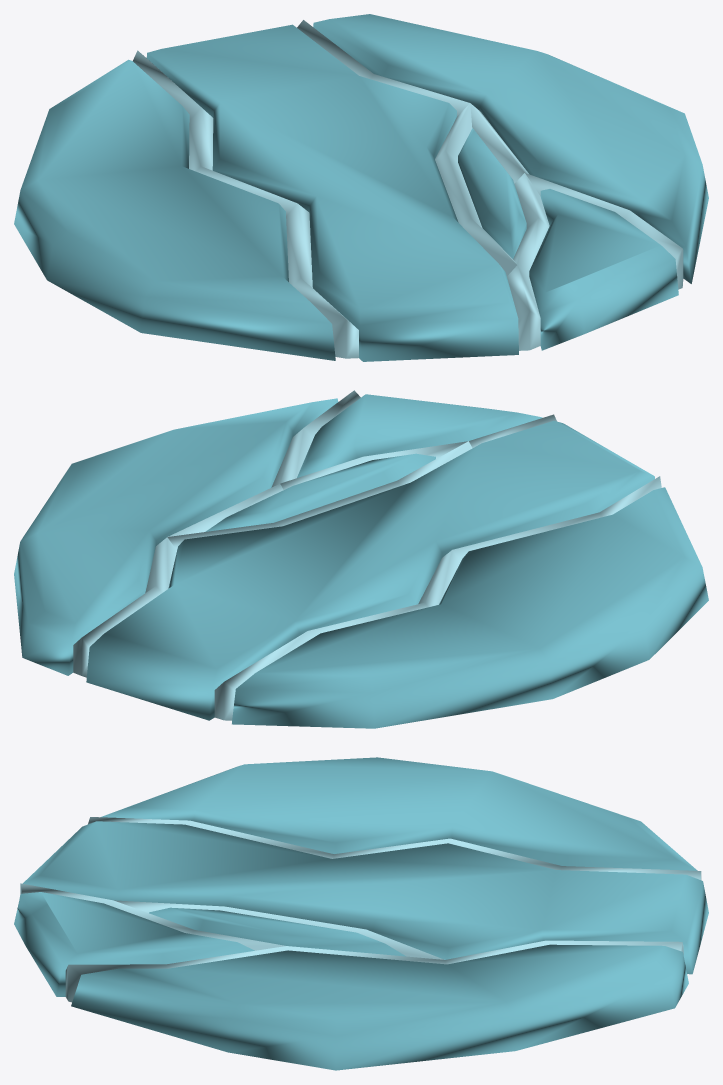
File: Plataforma_Hielo.glb
3 views of the same model, one above another, from view 1: azimuth 30°, elevation 25°; view 2: azimuth 150°, elevation 25°; view 3: azimuth 270°, elevation 25° (orthographic). The views are drawn at different scales.
Visible parts, largest first — view 1: paltaformas de hielito; view 2: paltaformas de hielito; view 3: paltaformas de hielito.
Boxes of the visible parts, x1,y1,x2,y2 form: paltaformas de hielito: (14,14,708,361); paltaformas de hielito: (14,390,708,728); paltaformas de hielito: (14,757,708,1070).
Bounding box in the file's own units: 0.9018 × 0.06 × 0.9379.
